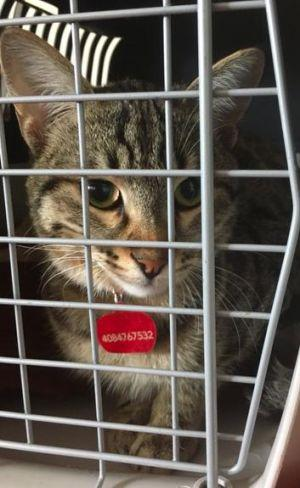bengal: (1, 4, 266, 302)
